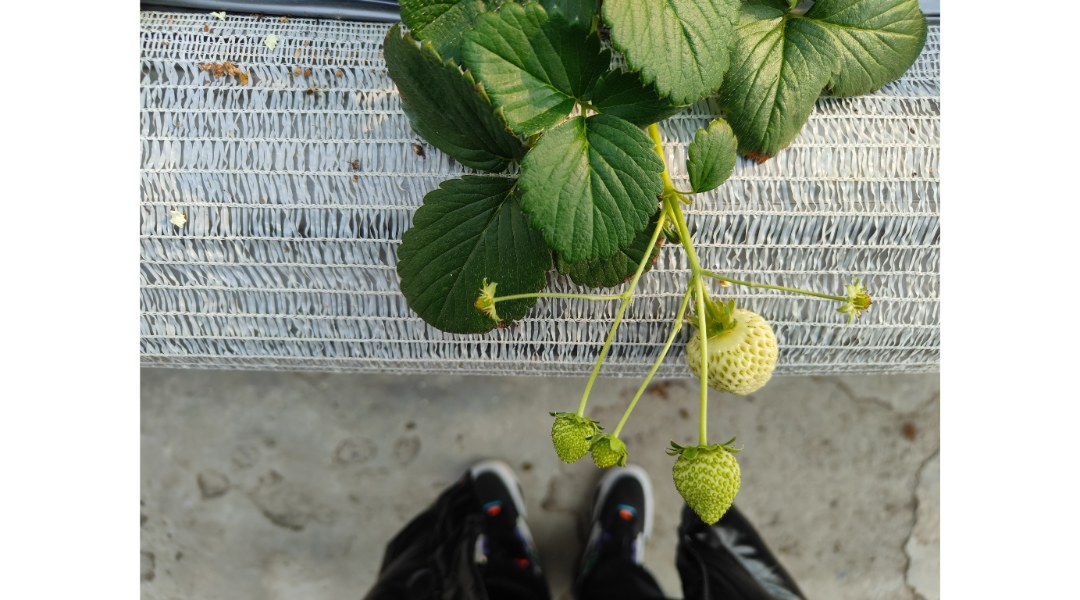berry: (688, 288, 781, 396), (674, 434, 747, 537), (535, 402, 595, 471), (582, 431, 633, 487), (467, 272, 502, 338), (834, 279, 875, 314)
strain: (611, 283, 686, 443), (565, 304, 629, 418), (715, 262, 844, 306), (692, 281, 717, 452), (490, 286, 620, 312), (629, 214, 659, 300), (645, 129, 680, 180), (669, 203, 696, 269)
